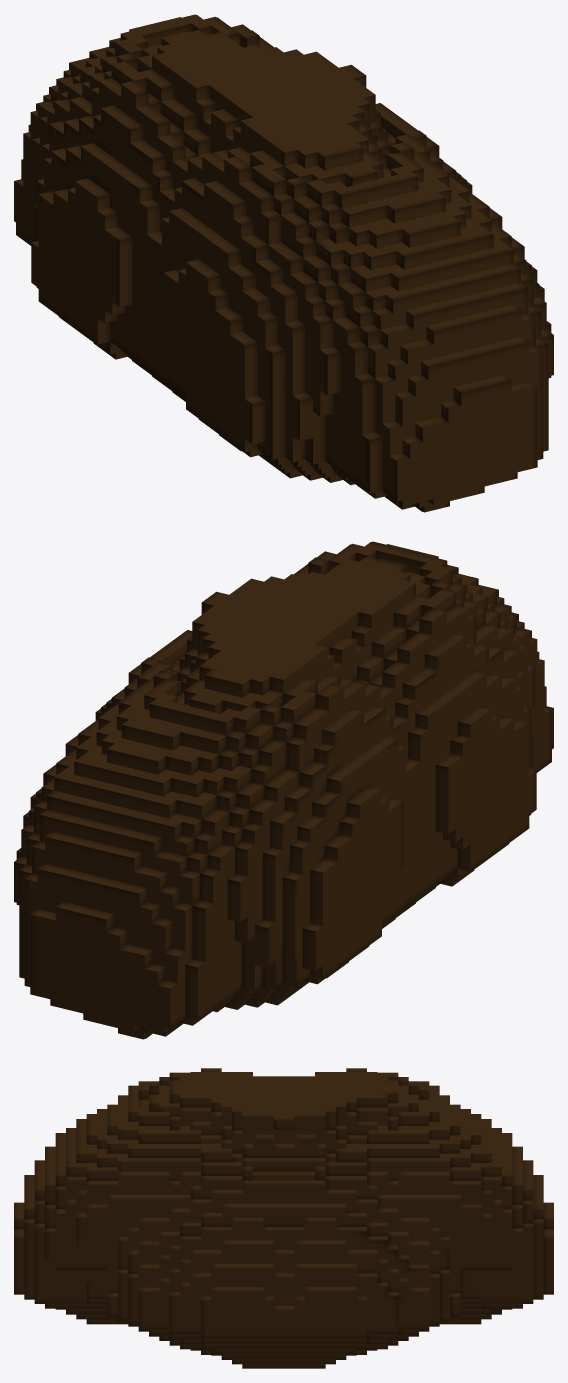
Rendered from Tunic_M.obj.
The picture shows the model from 3 angles, top to bottom: view 1: azimuth 30°, elevation 25°; view 2: azimuth 150°, elevation 25°; view 3: azimuth 270°, elevation 25°; orthographic projection. The views are drawn at different scales.
Parts seen in each view (by area): view 1: Tunic_M; view 2: Tunic_M; view 3: Tunic_M.
Boxes of the visible parts, box(x1,y1,x2,y2) form: Tunic_M: box(14, 14, 553, 512); Tunic_M: box(14, 541, 553, 1039); Tunic_M: box(14, 1068, 553, 1368).
Bounding box in the file's own units: 26 × 25 × 52.
